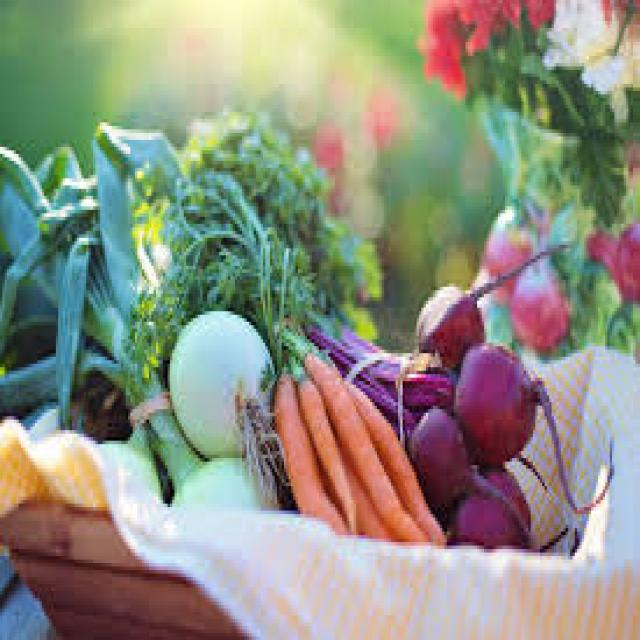organic waste: (130, 116, 347, 374), (0, 119, 179, 413), (419, 0, 638, 115), (302, 350, 426, 538), (340, 374, 444, 542), (165, 308, 272, 451), (272, 360, 356, 535), (454, 343, 561, 465), (296, 360, 354, 535), (449, 465, 531, 546), (407, 402, 470, 507), (172, 451, 277, 511), (577, 17, 638, 112), (412, 280, 482, 360), (510, 252, 566, 350), (561, 130, 621, 220), (480, 200, 530, 298), (542, 0, 619, 63), (419, 3, 468, 88), (352, 476, 394, 538), (461, 0, 512, 45), (580, 273, 616, 336), (547, 213, 582, 273), (584, 224, 619, 280), (614, 217, 638, 297), (505, 0, 559, 21), (612, 297, 631, 346)
